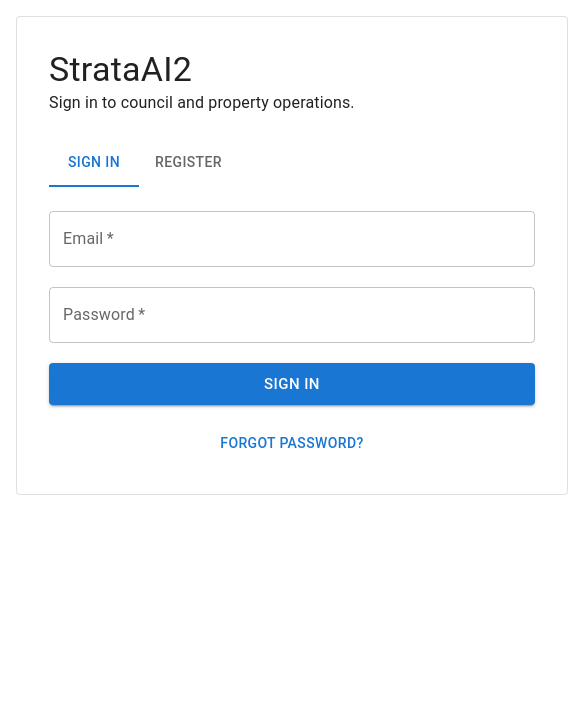
Test: PRD-02 authentication UI › binds invitation signup retries to the proof without storing or displaying it
Click the tab "Register": x=188, y=163 139,139 -> 238,187
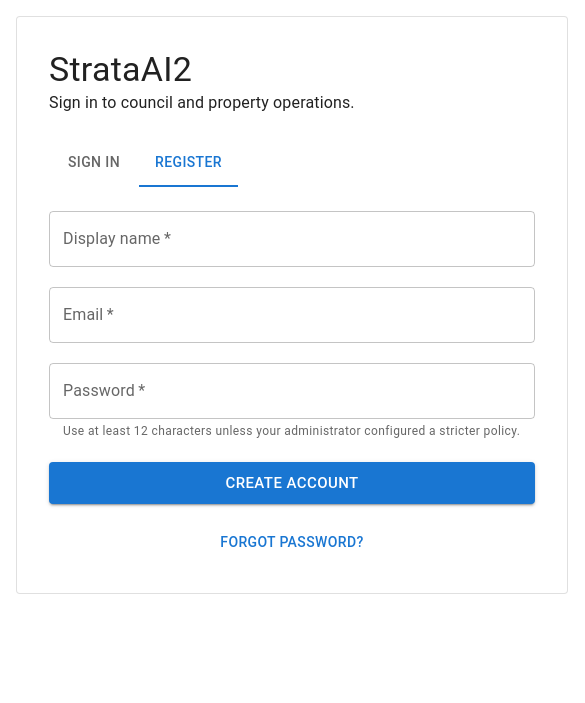
In the field labelled "Display name *": x=292, y=239 49,211 -> 535,267, type "Person"
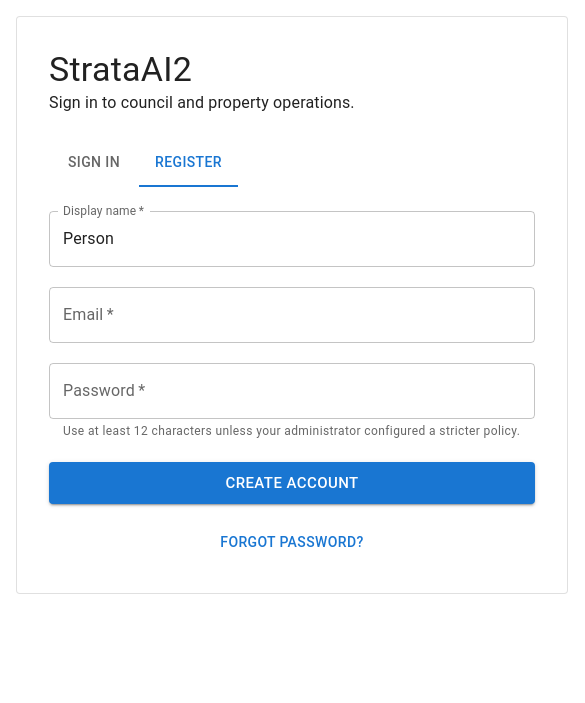
In the field labelled "Email *": x=292, y=315 49,287 -> 535,343, type "person@example.test"
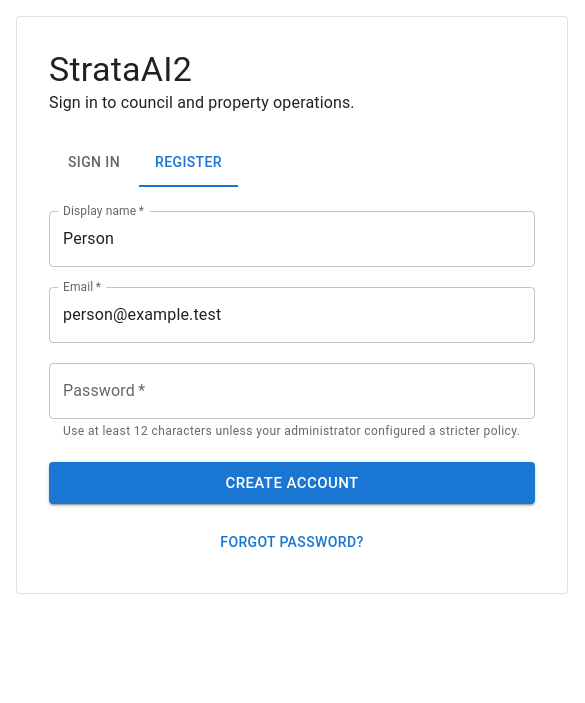
In the password field labelled "Password *": x=292, y=391 49,363 -> 535,419, type "correct-private-password"
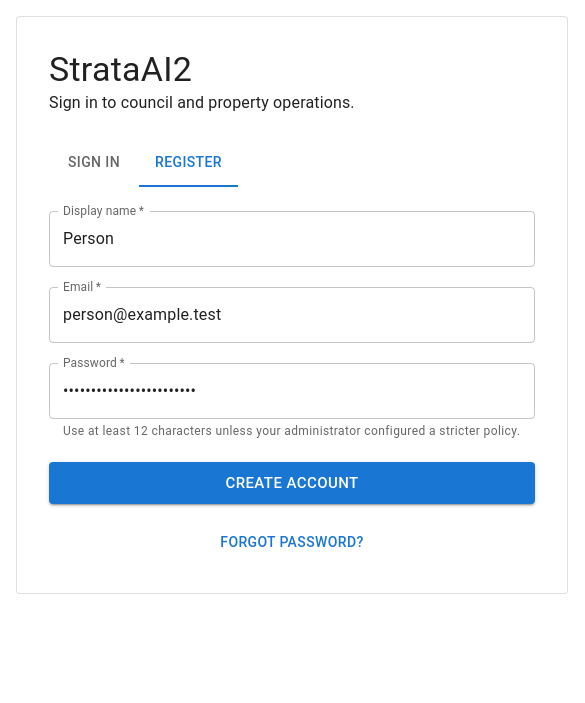
Click the button "Create account": x=292, y=483 49,462 -> 535,504
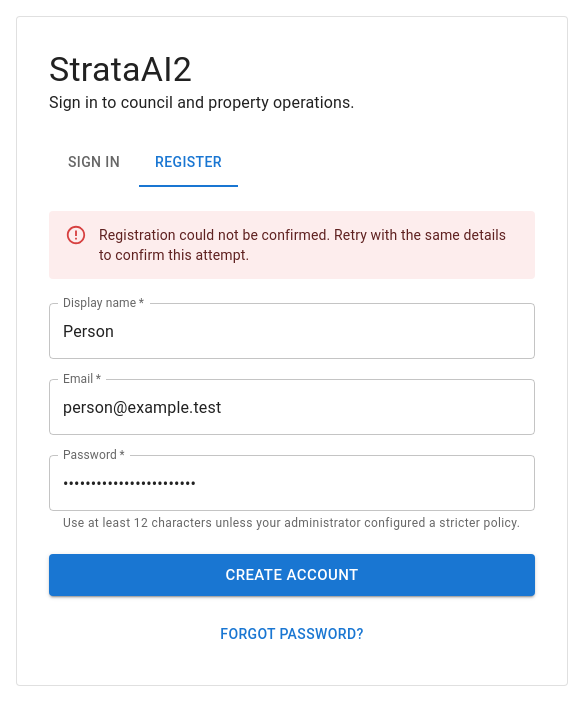
Now the text "Retry with the same details" is shown, box 99,227 -> 506,263
Click the button "Create account": x=292, y=575 49,554 -> 535,596
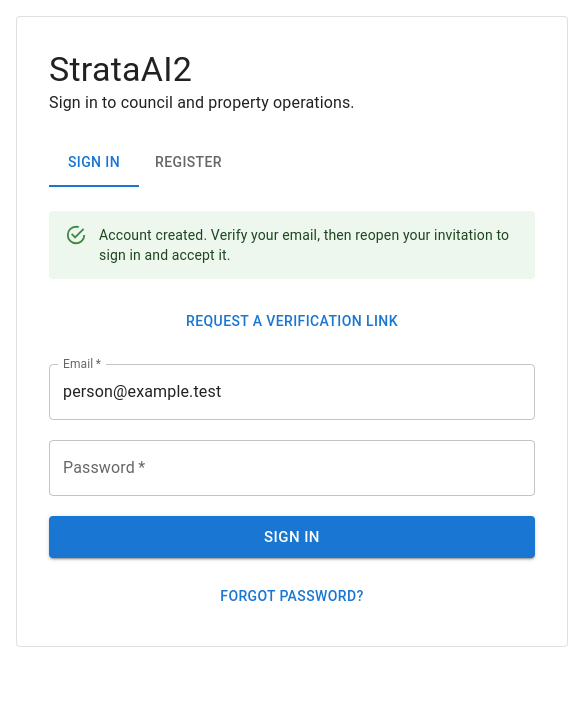
Now the text "Account created. Verify your email, then reopen your invitation to sign in and accept it." is shown, box 99,227 -> 509,263
Now the password field labelled "Password *" is empty, box 49,440 -> 535,496
